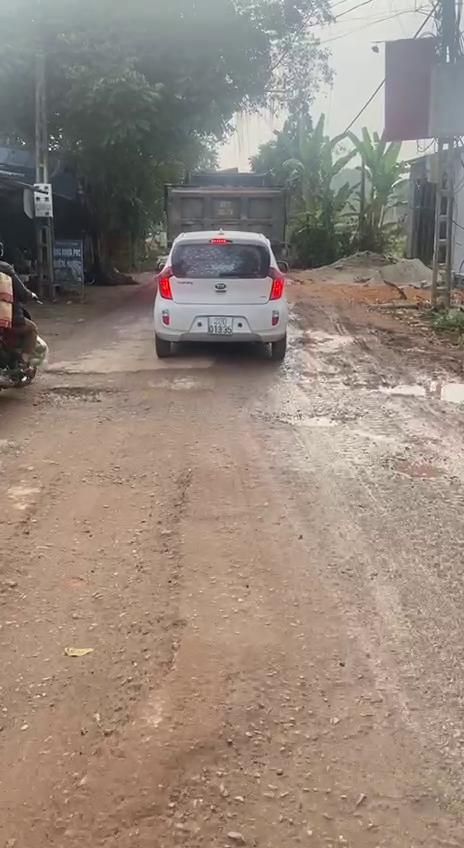pothole: (0, 468, 204, 776), (46, 381, 133, 407), (276, 406, 344, 434)
